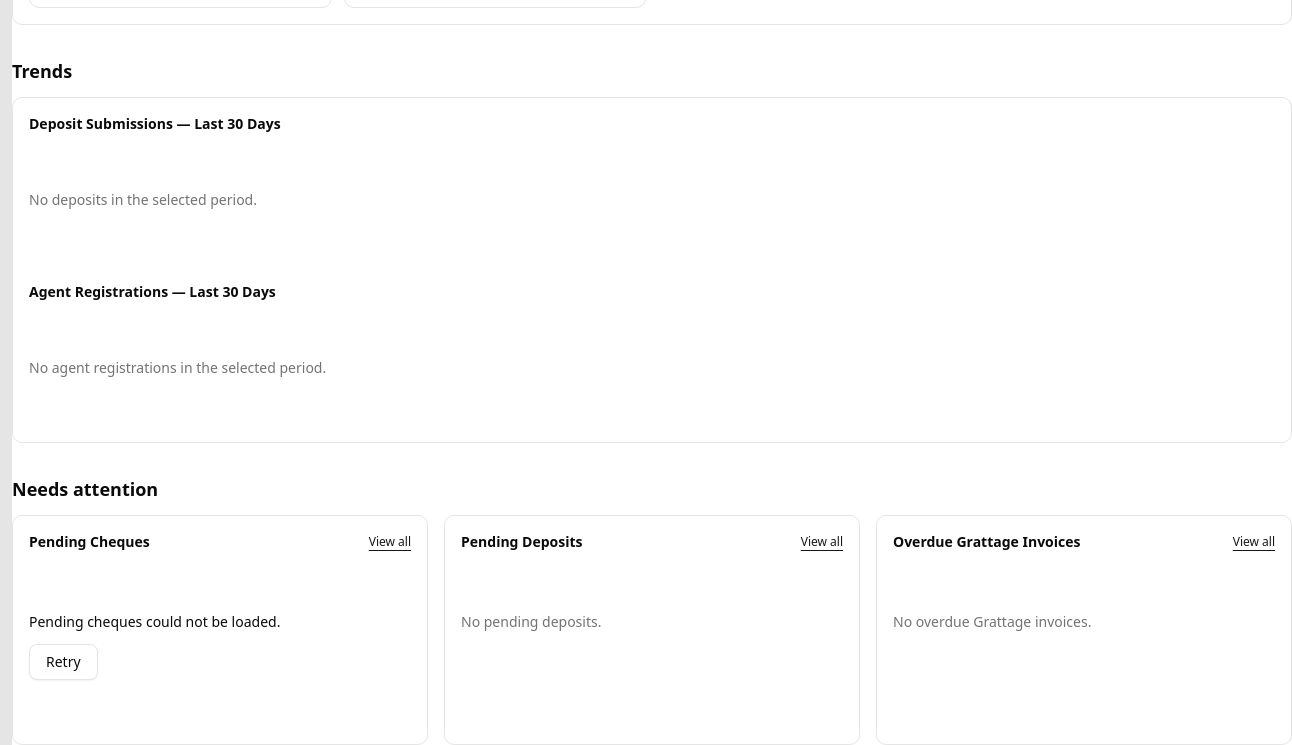
Scenario: Pending Cheques widget › shows a retryable error state and recovers
(page scrolled)
Click the button "Retry" at (63,662), box x1=29 y1=644 x2=98 y2=680
(page scrolled)
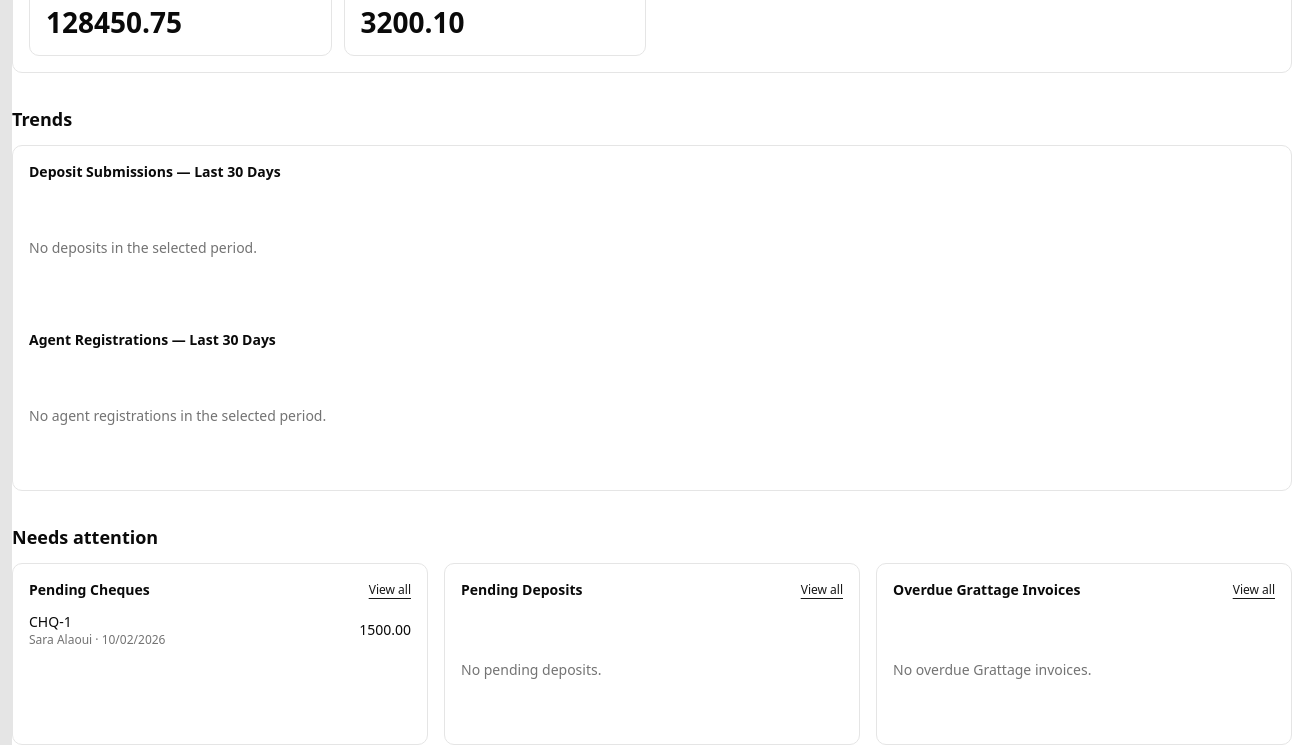
Check: the text "CHQ-1" is shown, box x1=29 y1=612 x2=72 y2=631
